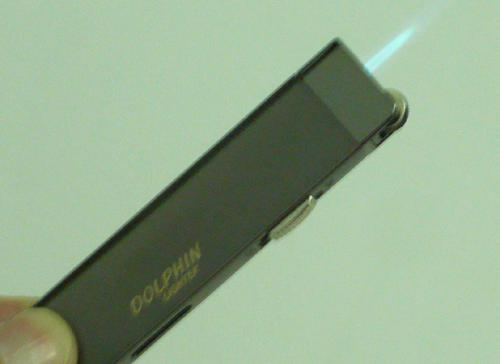fire: (357, 21, 414, 85)
